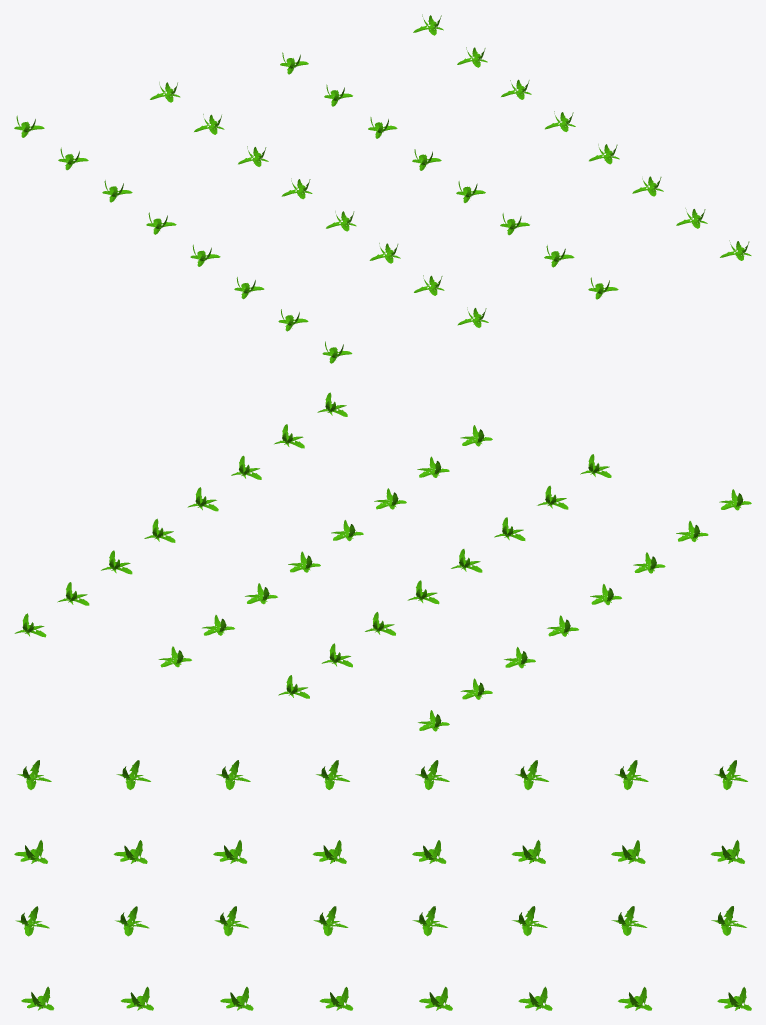
Rendered from plant.dae.
3 views of the same model, one above another, from view 1: azimuth 30°, elevation 25°; view 2: azimuth 150°, elevation 25°; view 3: azimuth 270°, elevation 25° (orthographic). The views are drawn at different scales.
Parts seen in each view (by area): view 1: plant_array; view 2: plant_array; view 3: plant_array.
Boxes of the visible parts, box(x1,y1,x2,y2) form: plant_array: box(14, 14, 751, 363); plant_array: box(14, 392, 751, 731); plant_array: box(14, 760, 751, 1010).
Size of the model in its own units: 6.4 by 8.44 by 0.2628.
